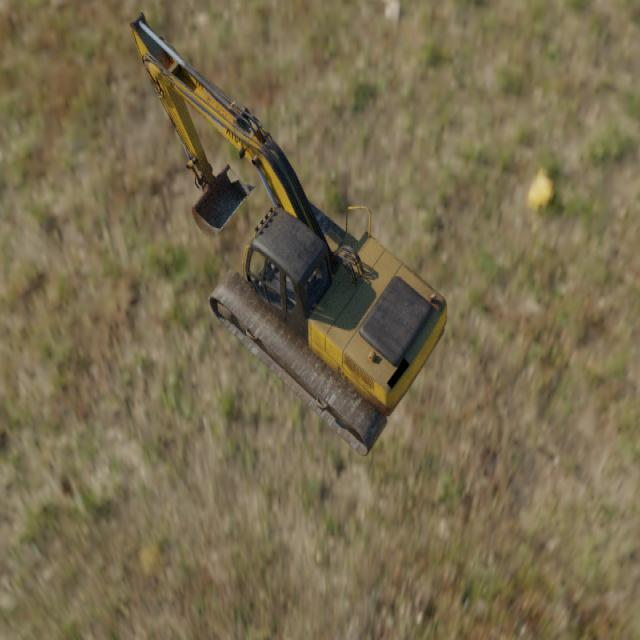excavator: (129, 11, 447, 456)
